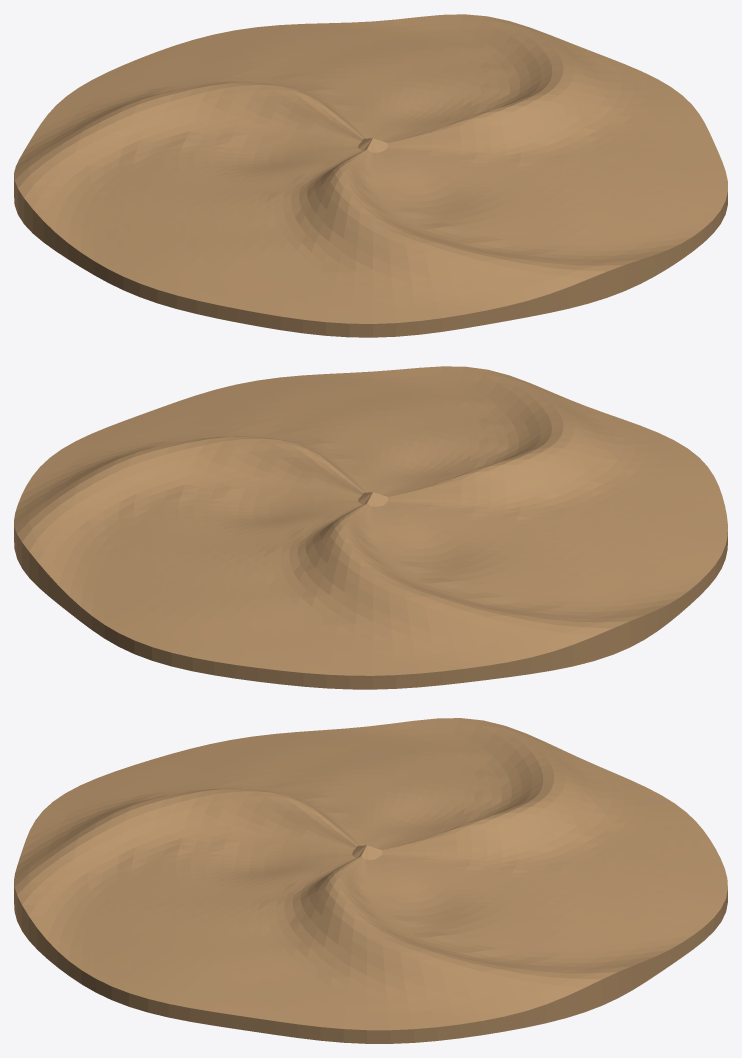
3 views of the same model, one above another, from view 1: azimuth 30°, elevation 25°; view 2: azimuth 150°, elevation 25°; view 3: azimuth 270°, elevation 25° (orthographic).
Parts seen in each view (by area): view 1: integrated_low_positive_relief_three_armed_fossil_form; view 2: integrated_low_positive_relief_three_armed_fossil_form; view 3: integrated_low_positive_relief_three_armed_fossil_form.
Boxes of the visible parts, box(x1,y1,x2,y2) form: integrated_low_positive_relief_three_armed_fossil_form: box(14, 14, 727, 337); integrated_low_positive_relief_three_armed_fossil_form: box(14, 366, 727, 689); integrated_low_positive_relief_three_armed_fossil_form: box(14, 718, 727, 1043).
Bounding box in the file's own units: 0.0401 × 0.00369 × 0.0401.
